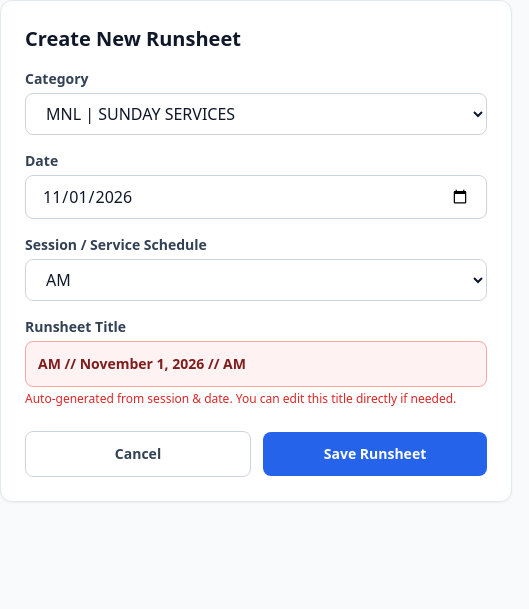
it: CreateRunsheetForm campus options › refuses to submit a title for a campus outside a one-campus scope
Expected: the dropdown labelled "Session / Service Schedule" is enabled, [25,259,487,301]
# Let the schedule load settle: it resets the session and regenerates the title.
Replace the text in the field with "BNE Service // October 4, 2026 // 10AM" at (256, 364), box [25,341,487,387]
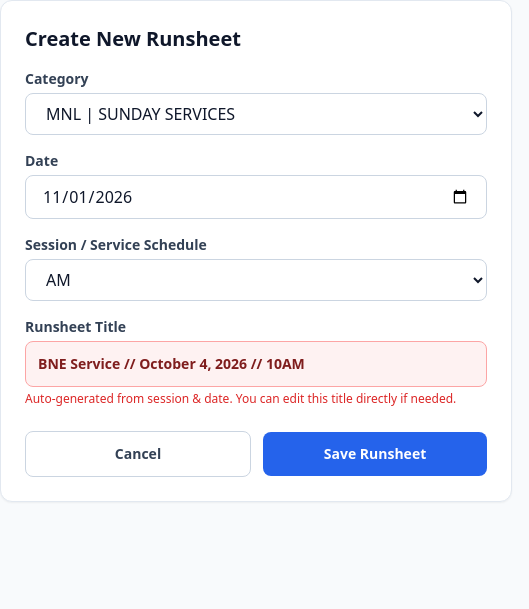
Click the button "Save Runsheet" at (375, 454), box [263,432,487,476]
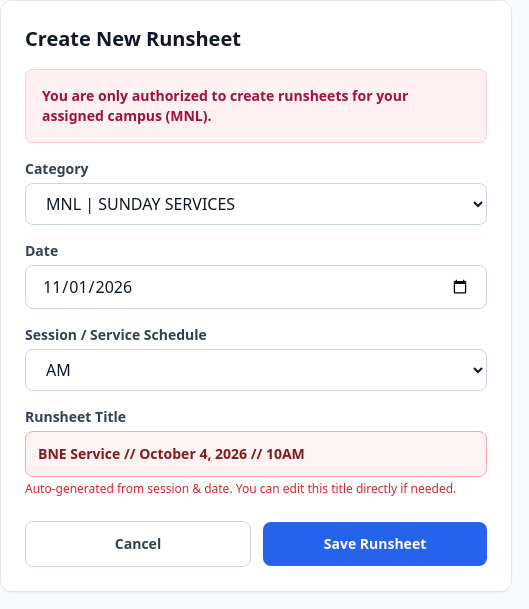
Result: the text "assigned campus (MNL)" is shown at [42,86,408,125]
